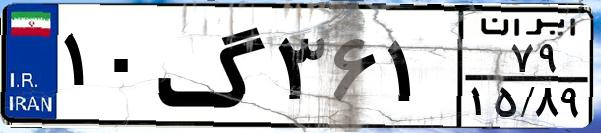0: (110, 28, 156, 98)
1: (385, 28, 445, 110), (57, 26, 110, 100), (470, 70, 495, 125)
3: (270, 28, 330, 110)
5: (495, 70, 520, 125)
6: (330, 28, 385, 110)
7: (508, 27, 537, 80)
8: (535, 70, 560, 125)
9: (560, 70, 590, 125), (537, 27, 568, 80)
گ: (156, 12, 270, 120)
